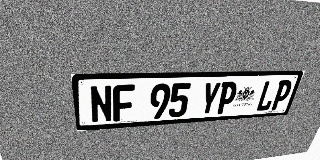5: (168, 83, 191, 118)
9: (149, 83, 172, 119)
F: (113, 84, 135, 122)
L: (255, 80, 280, 111)
N: (89, 85, 113, 123)
P: (215, 81, 239, 114), (269, 80, 294, 110)
Y: (198, 82, 222, 115)
